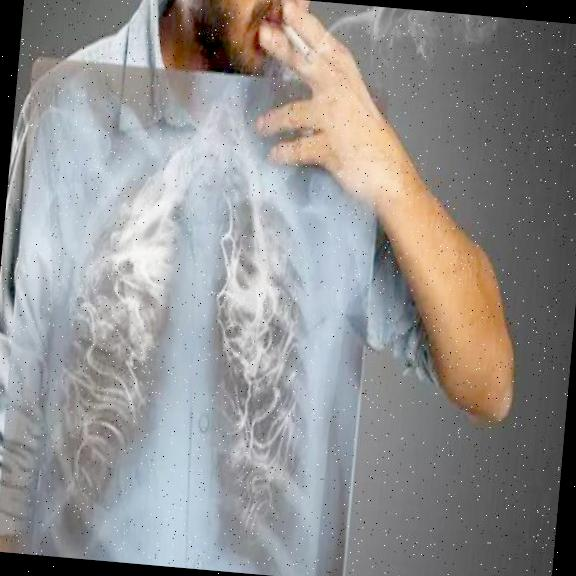smoke: (73, 162, 175, 396), (221, 206, 294, 367), (349, 4, 490, 57)
